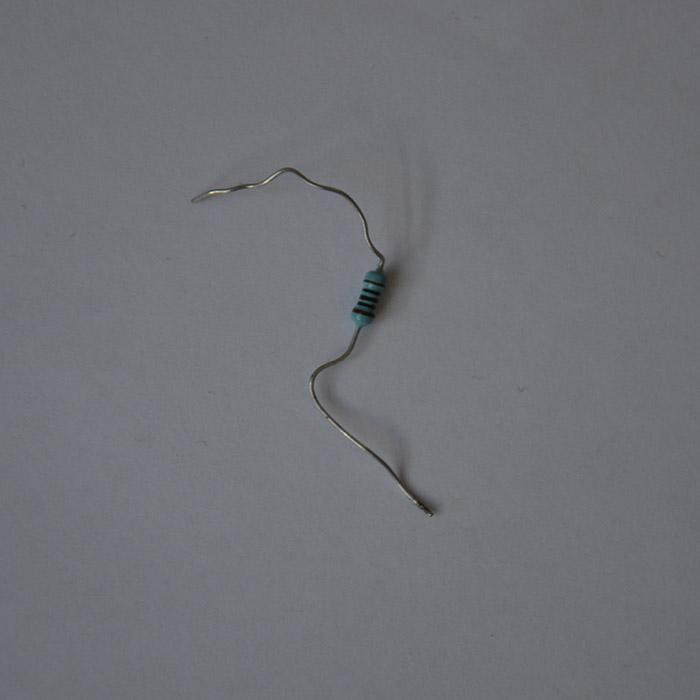resistor: (349, 265, 389, 331)
